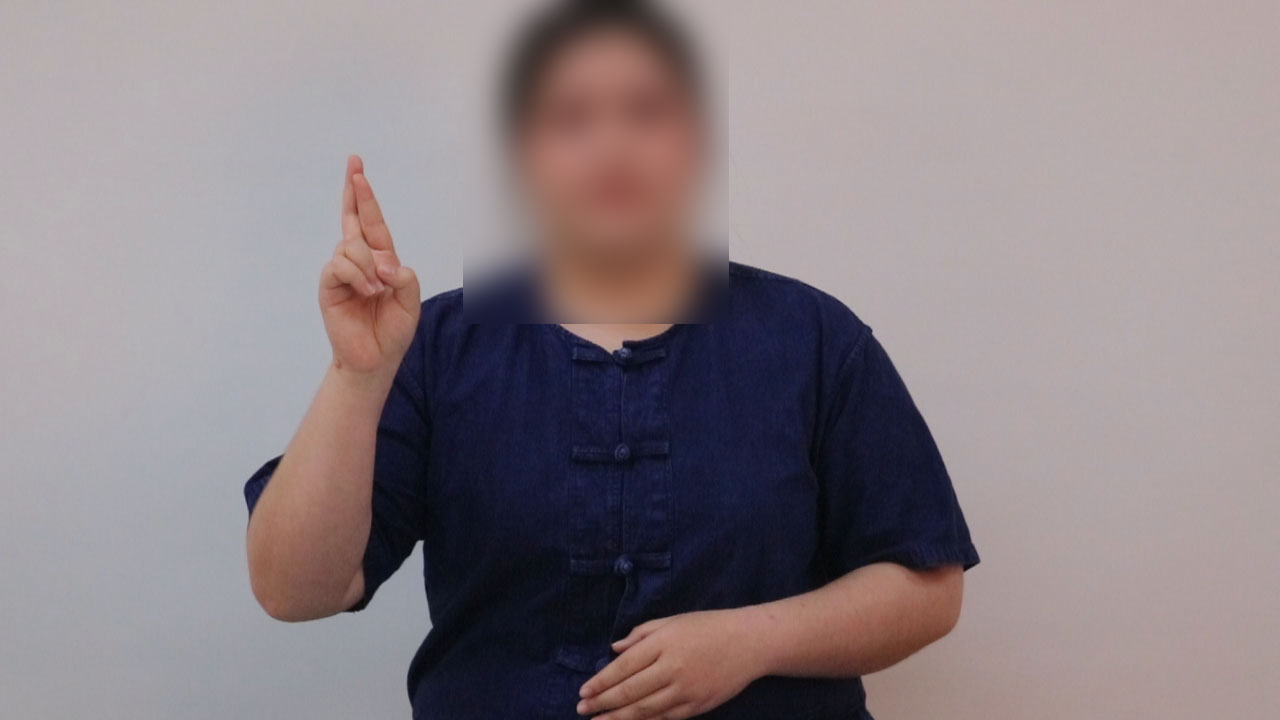rao: (292, 141, 435, 401)
